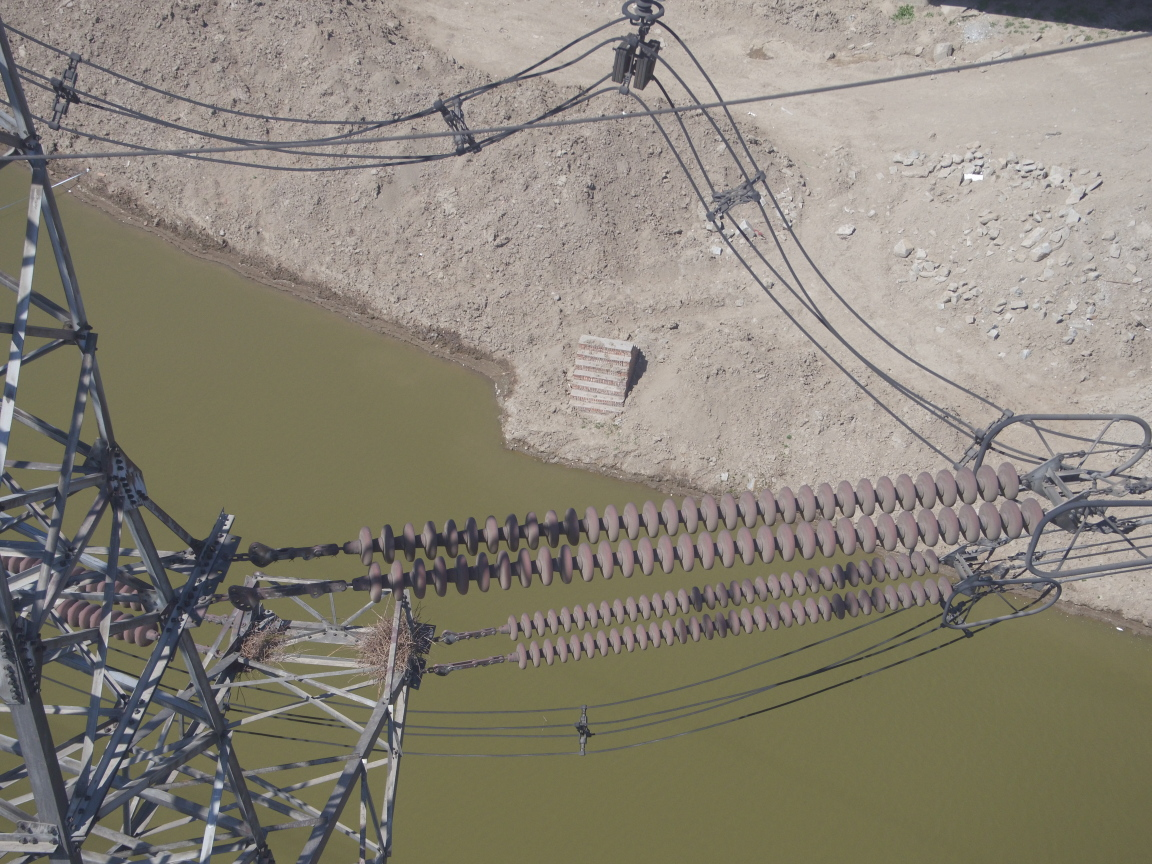insulator: (289, 455, 1059, 604), (468, 546, 973, 670)
